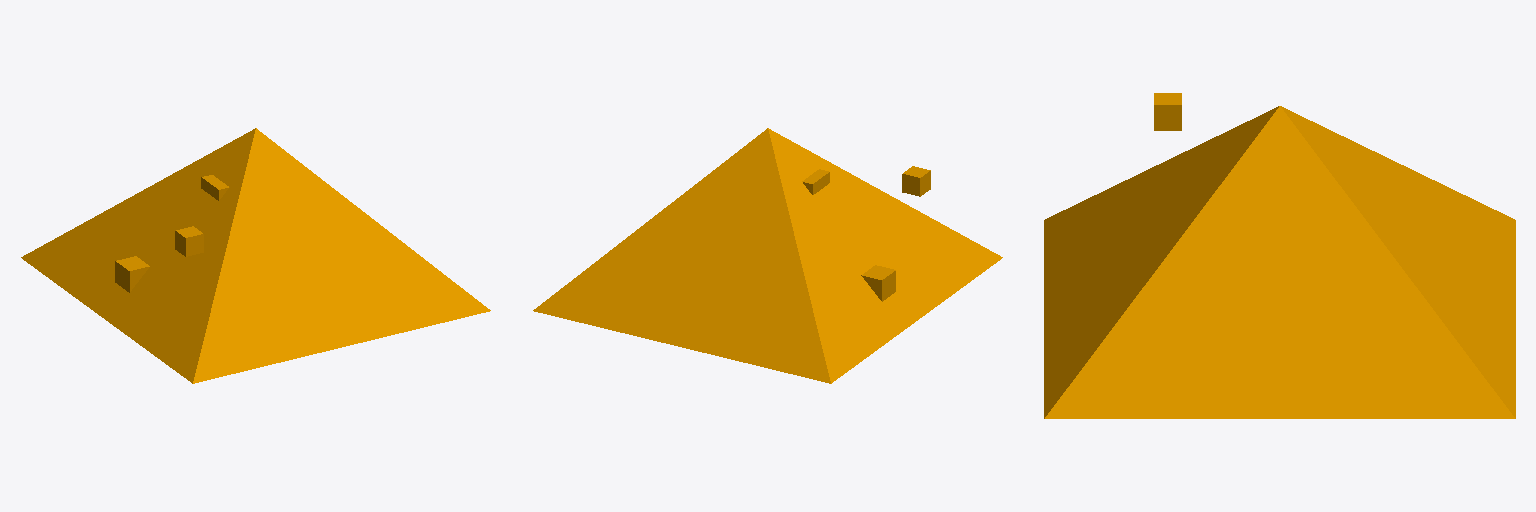
The robot description file, URDF, robot "terrain":
<?xml version="1.0"?>
<robot name="terrain">
  <link name="baseLink">
    <visual>
      <geometry><mesh filename="rocky_mountain.obj" scale="1 1 1"/></geometry>
    </visual>
    <collision>
      <geometry><mesh filename="rocky_mountain.obj" scale="1 1 1"/></geometry>
    </collision>
    <inertial>
      <mass value="1"/>
      <inertia ixx="1" iyy="1" izz="1" ixy="0" ixz="0" iyz="0"/>
    </inertial>
  </link>
</robot>

--- Facts derived from the render (not from the file) ---
The picture shows the robot from 3 angles, left to right: view 1: azimuth 30°, elevation 25°; view 2: azimuth 150°, elevation 25°; view 3: azimuth 270°, elevation 25°; orthographic projection.
Model terrain with 1 links and 0 joints (none), rooted at baseLink, posed all joints at 0.
Visible links, largest first — view 1: baseLink; view 2: baseLink; view 3: baseLink.
Boxes of the visible links, box(x1,y1,x2,y2) form: baseLink: box(21, 128, 490, 383); baseLink: box(533, 128, 1002, 383); baseLink: box(1044, 93, 1515, 418).
Size in the robot's own frame: 10 by 10 by 5 metres.
1 mesh visuals loaded from 1 distinct referenced files (1 OBJ).
